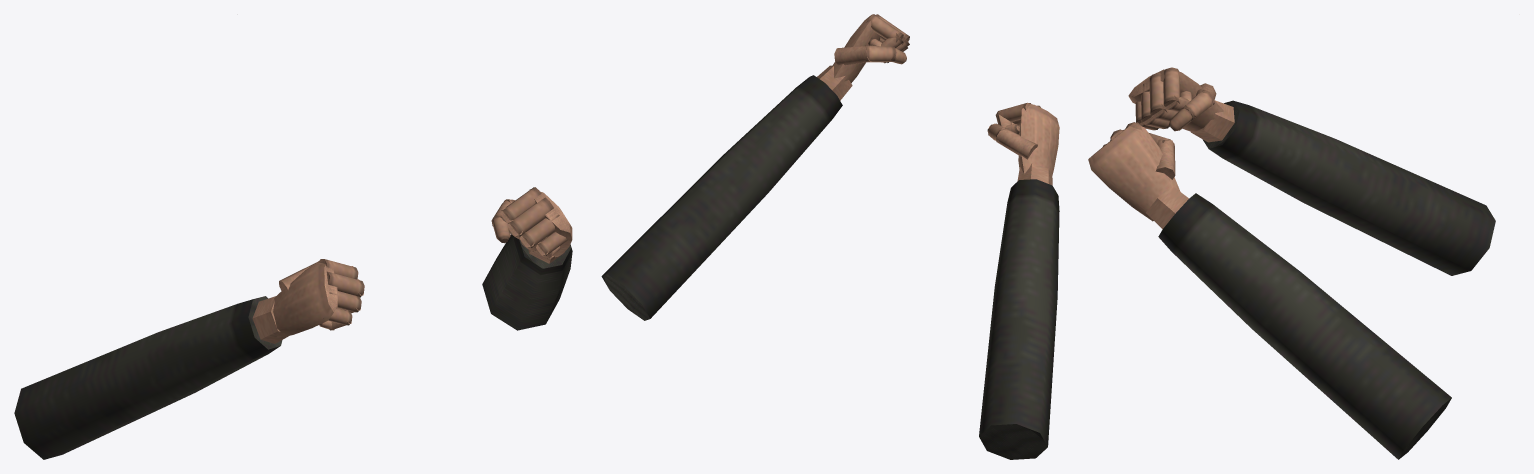
File: fp_arms.obj
3 renders of one model, left to right at view 1: azimuth 30°, elevation 25°; view 2: azimuth 150°, elevation 25°; view 3: azimuth 270°, elevation 25°, orthographic. The views are drawn at different scales.
Parts seen in each view (by area): view 1: fp_arms_mesh; view 2: fp_arms_mesh; view 3: fp_arms_mesh.
Part boxes in pixels (<box>): fp_arms_mesh: <box>14,187,572,459</box>; fp_arms_mesh: <box>601,14,1059,459</box>; fp_arms_mesh: <box>1088,67,1495,459</box>.
Size of the model in its own units: 0.6773 by 0.459 by 0.4937.
Materials: 1 (1 with a texture image).
